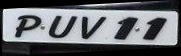character: (14, 13, 42, 38), (48, 14, 77, 38), (80, 14, 106, 40), (113, 16, 138, 40), (142, 16, 166, 41)
